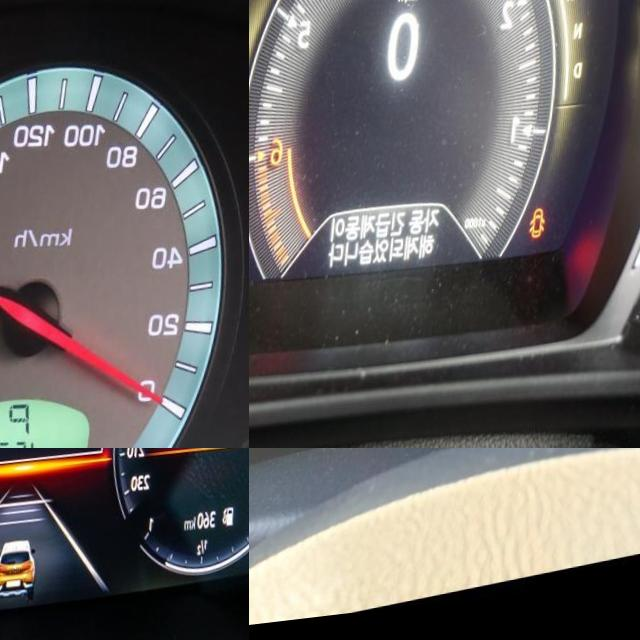Doors: (536, 218, 554, 250)
